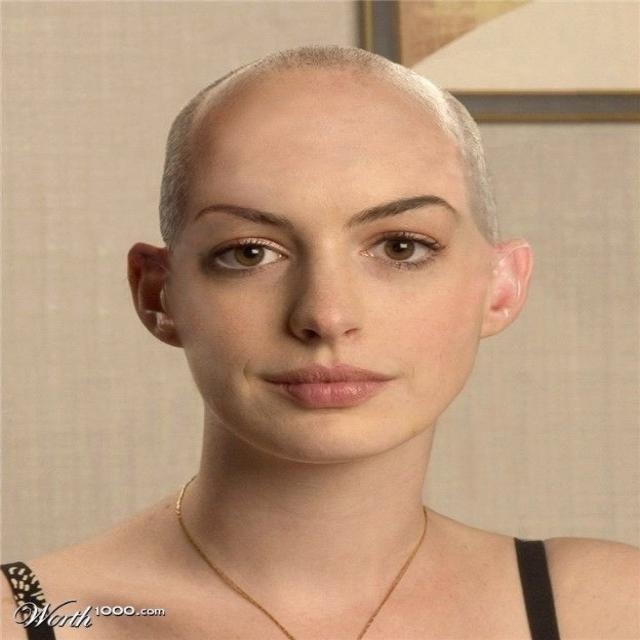no_helmet: (116, 26, 534, 272)
